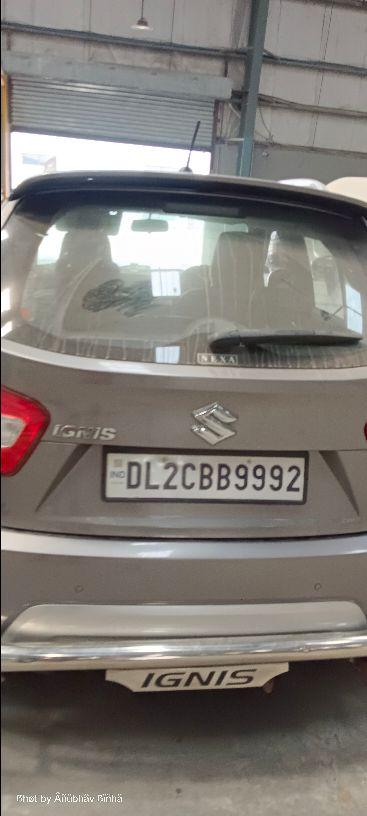license_plate: (101, 445, 309, 504), (103, 661, 289, 693)
